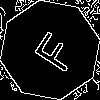F: (25, 25, 80, 75)
